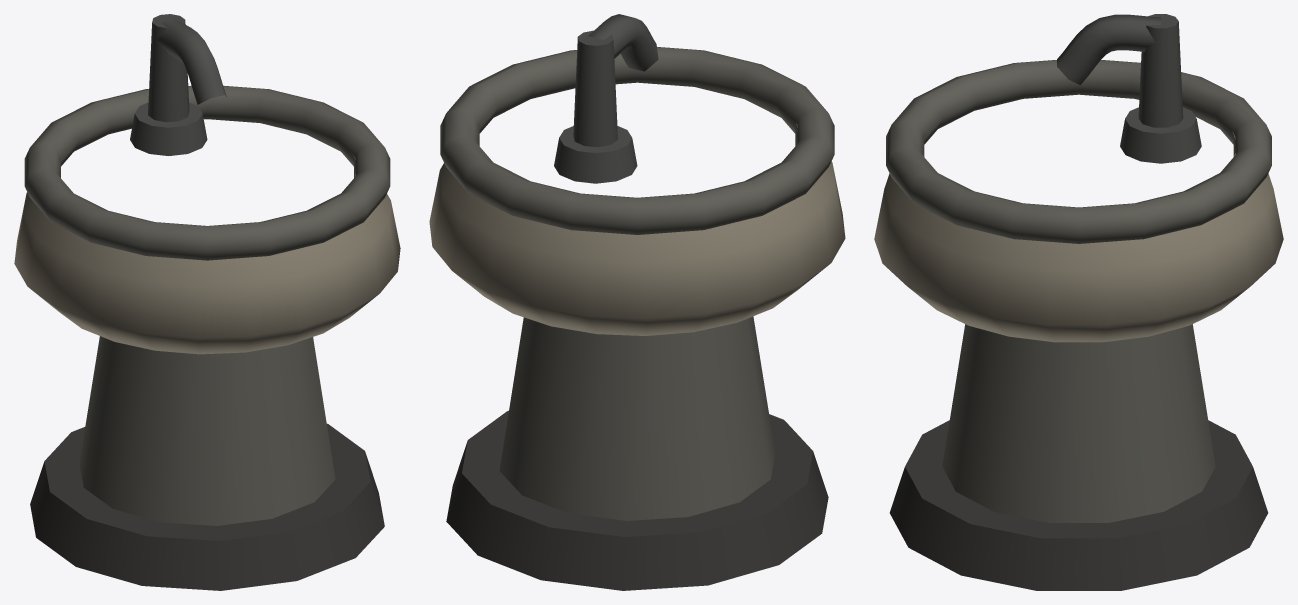
The model's file is sk_washbasin.glb.
3 views of the same model, side by side, from view 1: azimuth 30°, elevation 25°; view 2: azimuth 150°, elevation 25°; view 3: azimuth 270°, elevation 25° (orthographic). The views are drawn at different scales.
Visible parts, largest first — view 1: stone, metal; view 2: stone, metal; view 3: stone, metal.
Boxes of the visible parts, bbox=[...] form: stone: bbox=[14, 85, 400, 590]; metal: bbox=[130, 14, 226, 155]; stone: bbox=[429, 47, 845, 590]; metal: bbox=[554, 14, 658, 183]; stone: bbox=[874, 60, 1283, 590]; metal: bbox=[1057, 14, 1201, 163].
Size of the model in its own units: 0.7919 by 1.07 by 0.8.
